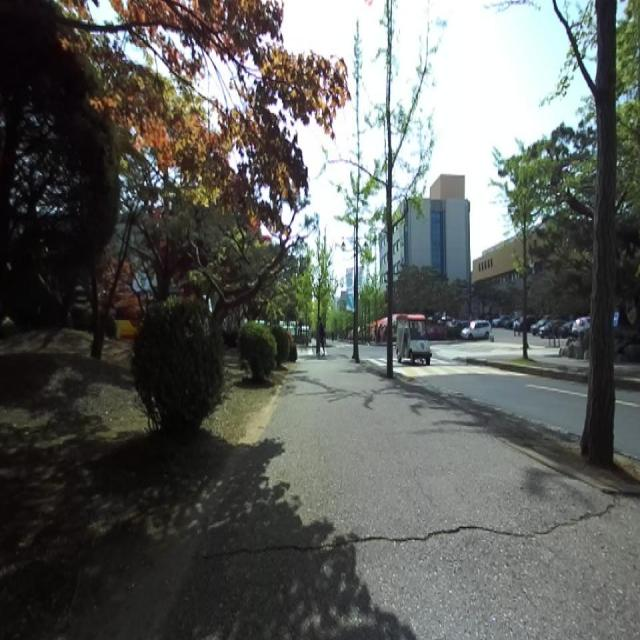sidewalk: (151, 354, 640, 640)
